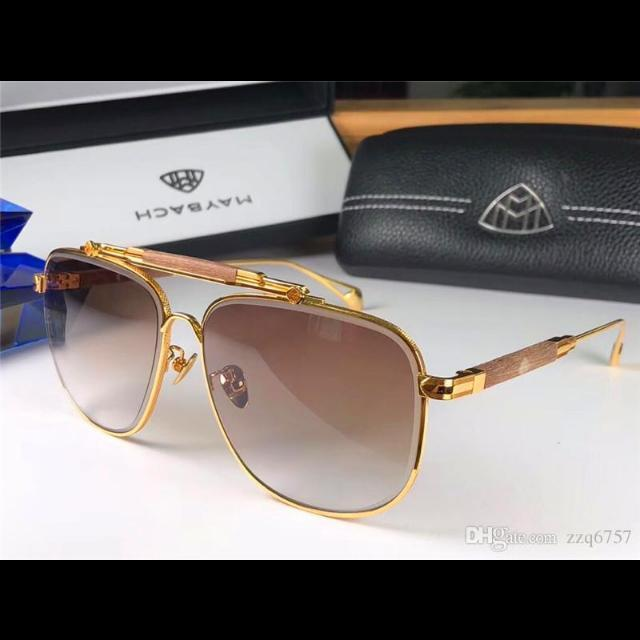sunglasses: (33, 235, 624, 519)
